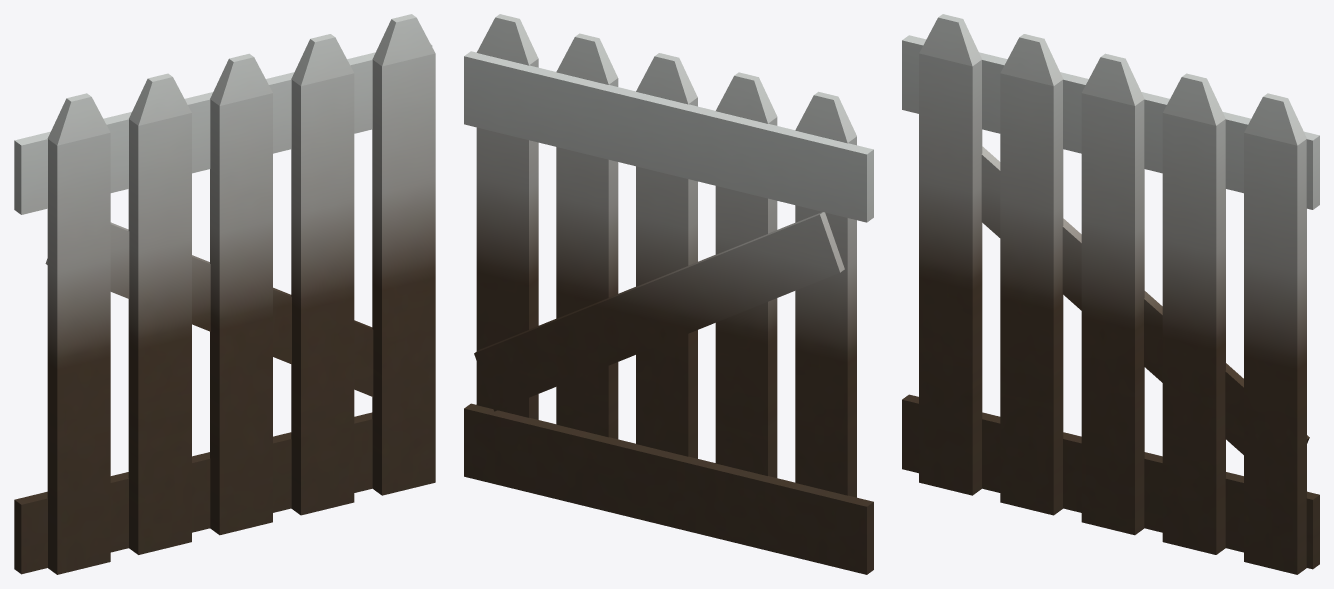
Rendered from Fence_Door_Snow.obj.
3 views of the same model, side by side, from view 1: azimuth 30°, elevation 25°; view 2: azimuth 150°, elevation 25°; view 3: azimuth 330°, elevation 25° (orthographic).
Visible parts, largest first — view 1: Fence_Door_Snow; view 2: Fence_Door_Snow; view 3: Fence_Door_Snow.
Boxes of the visible parts, bbox=[...] form: Fence_Door_Snow: bbox=[14, 14, 435, 574]; Fence_Door_Snow: bbox=[464, 14, 873, 574]; Fence_Door_Snow: bbox=[902, 14, 1319, 574].
Size of the model in its own units: 0.9044 by 0.983 by 0.0625.
